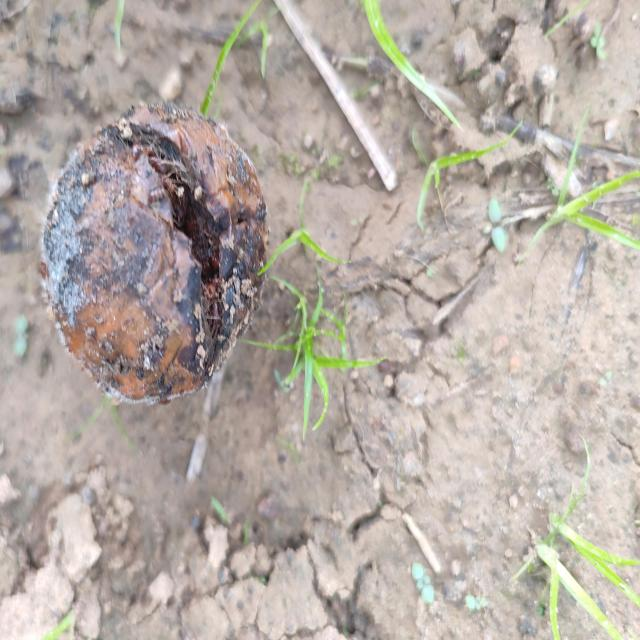damaged: (41, 103, 267, 402)
